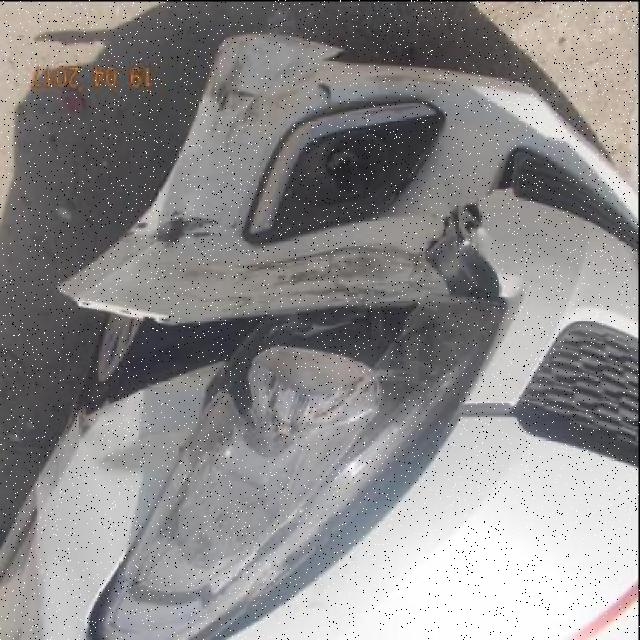damage: (55, 283, 426, 409), (198, 237, 446, 308), (200, 30, 338, 156), (421, 196, 503, 295), (150, 207, 237, 247)
